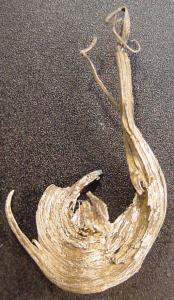silver: (5, 6, 168, 296)
